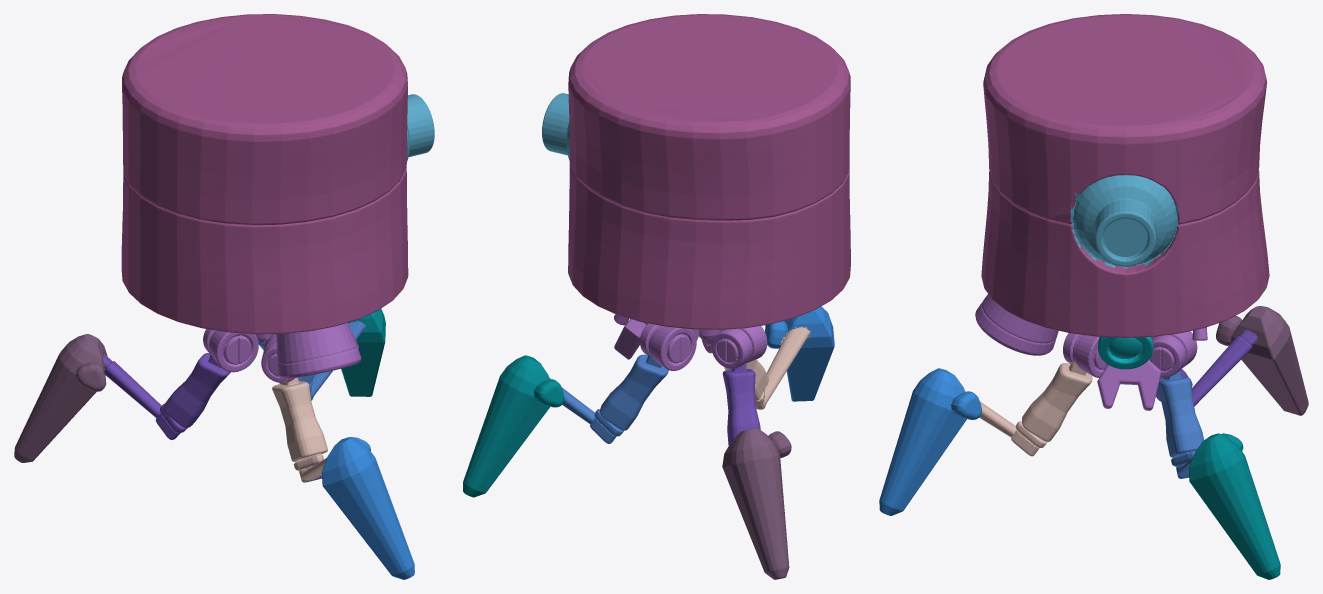
3 views of the same model, side by side, from view 1: azimuth 30°, elevation 25°; view 2: azimuth 150°, elevation 25°; view 3: azimuth 270°, elevation 25° (orthographic). The views are drawn at different scales.
Visible parts, largest first — view 1: world; view 2: world; view 3: world.
Boxes of the visible parts, bbox=[...] form: world: bbox=[14, 14, 434, 579]; world: bbox=[463, 14, 850, 579]; world: bbox=[879, 14, 1308, 579].
Size of the model in its own units: 1.59 by 1.91 by 1.72.
